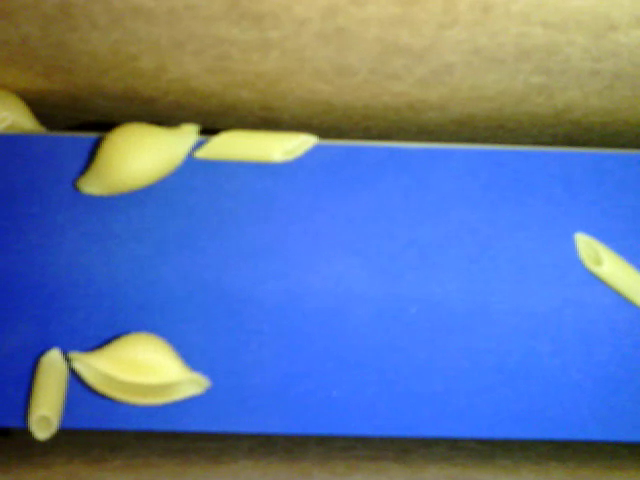elbow: (1, 107, 13, 130)
penne: (575, 229, 639, 302), (189, 127, 318, 162), (27, 345, 69, 442)
shell: (65, 332, 211, 408), (73, 117, 202, 197), (1, 88, 47, 134)
